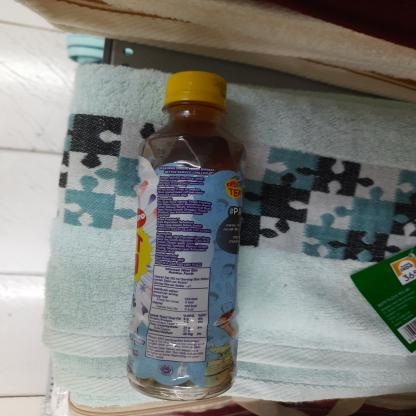bottle: (126, 68, 248, 404)
